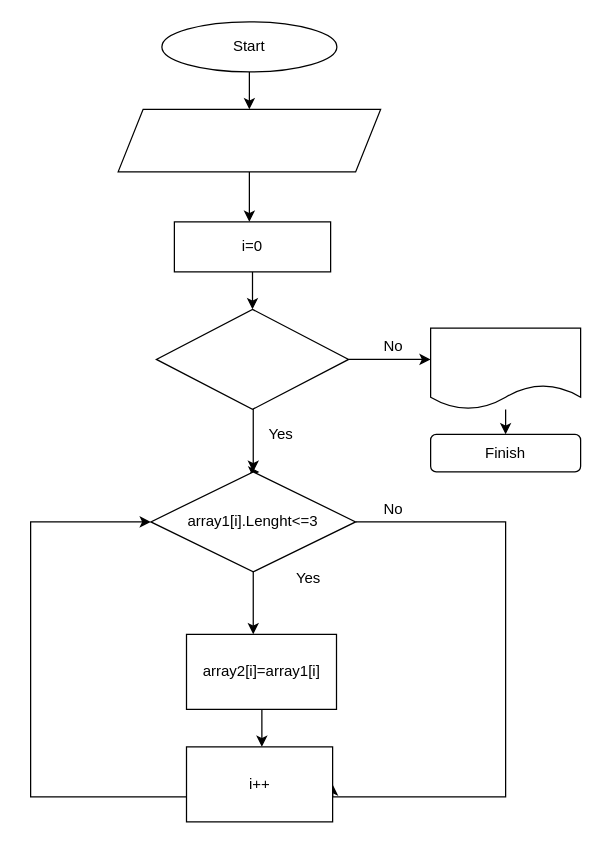
This 603x844 diagram has some shape labels left out. The shapes that lost their labels are listed below. From the top down, each one's box as (x1, y1, x2, y2) in pixels, then its label:
(117, 108, 381, 172): Lenght array1[Lenght] array2
(155, 308, 349, 409): i<array1.Lenght
(429, 327, 581, 409): array2
